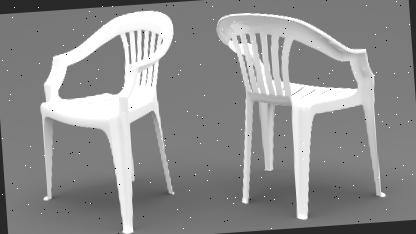chair: (208, 0, 391, 221), (28, 6, 190, 234)
